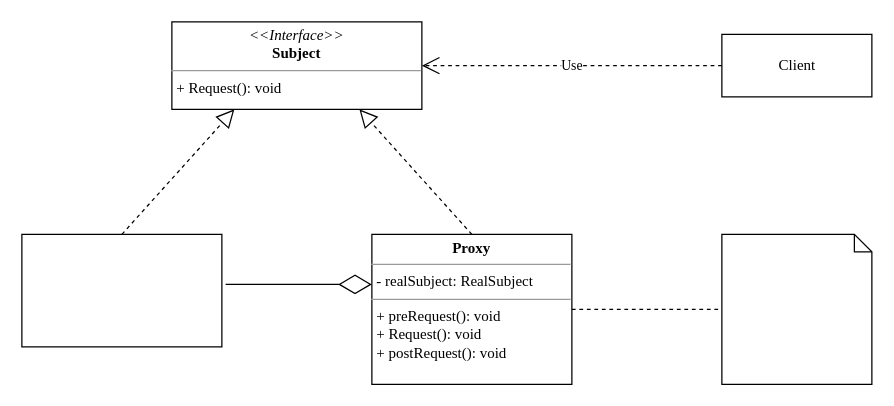
This 894x406 diagram has some shape labels left out. The shapes that lost their labels are listed below. From the top down, each one's box as (x1, y1, x2, y2) in pixels, then its label:
(21, 233, 222, 347): RealSubject + Request(): void
(721, 233, 872, 384): Note ... preRequest(); realSubject.Request(); postRequest(); ...
